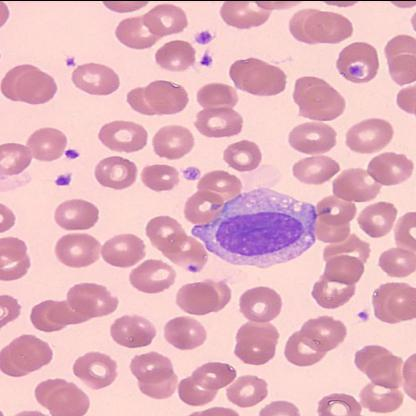Promyelocyte: (192, 188, 320, 268)
